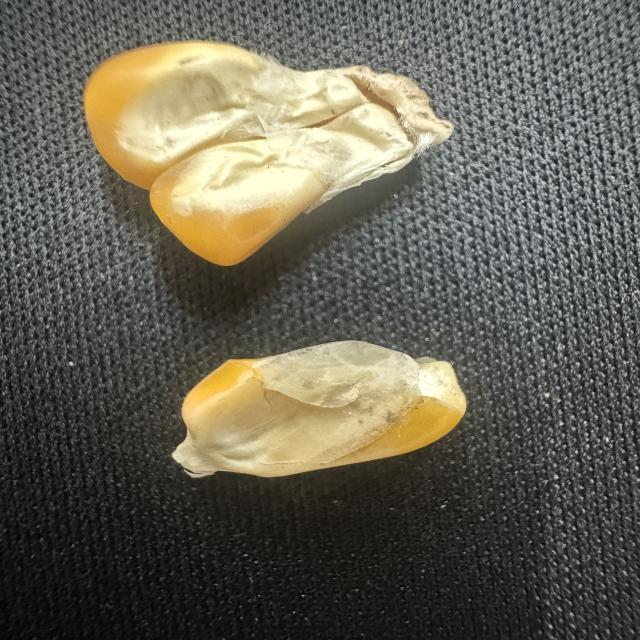Bad-Seed: (72, 32, 477, 273), (140, 338, 497, 502)
